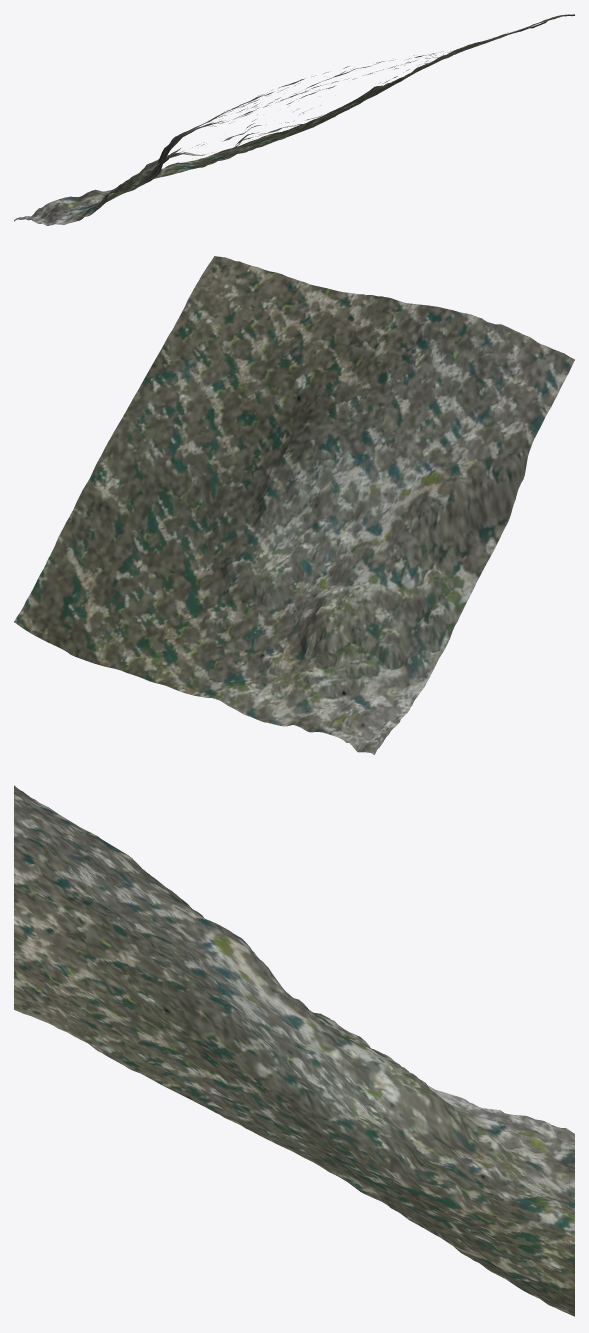
The picture shows the model from 3 angles, top to bottom: view 1: azimuth 30°, elevation 25°; view 2: azimuth 150°, elevation 25°; view 3: azimuth 270°, elevation 25°; orthographic projection. The views are drawn at different scales.
Size of the model in its own units: 250 by 180 by 241.
Materials: 1 (1 with a texture image).
